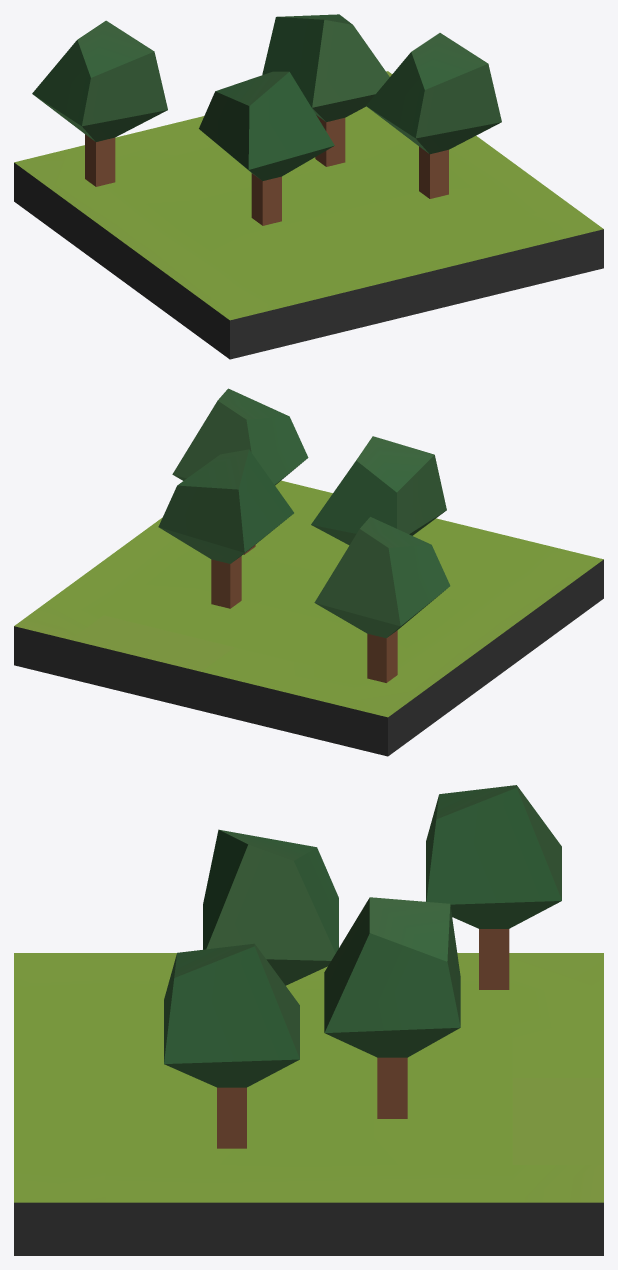
The model's file is trees_5.fbx.
3 renders of one model, top to bottom at view 1: azimuth 30°, elevation 25°; view 2: azimuth 150°, elevation 25°; view 3: azimuth 270°, elevation 25°, orthographic. The views are drawn at different scales.
Parts seen in each view (by area): view 1: block; view 2: block; view 3: block.
Boxes of the visible parts, bbox=[...] form: block: bbox=[14, 14, 603, 359]; block: bbox=[14, 388, 603, 756]; block: bbox=[14, 785, 603, 1255].
Bounding box in the file's own units: 200 × 200 × 96.92.
Materials: 1 (1 with a texture image).
